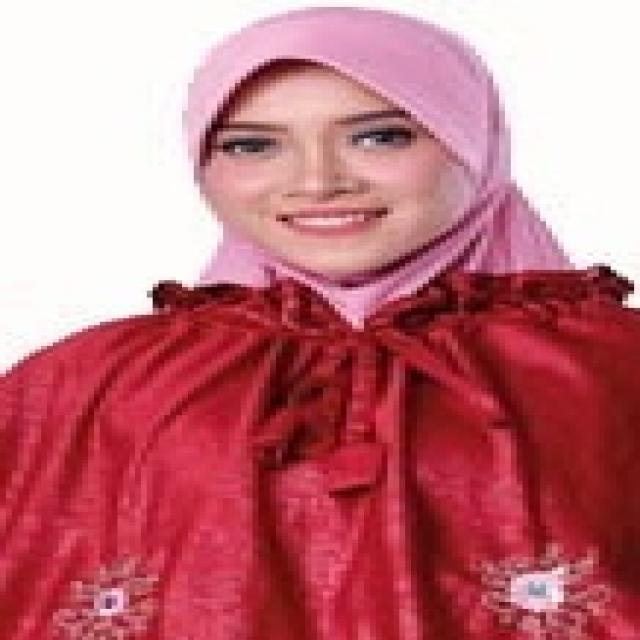head: (178, 9, 521, 284)
